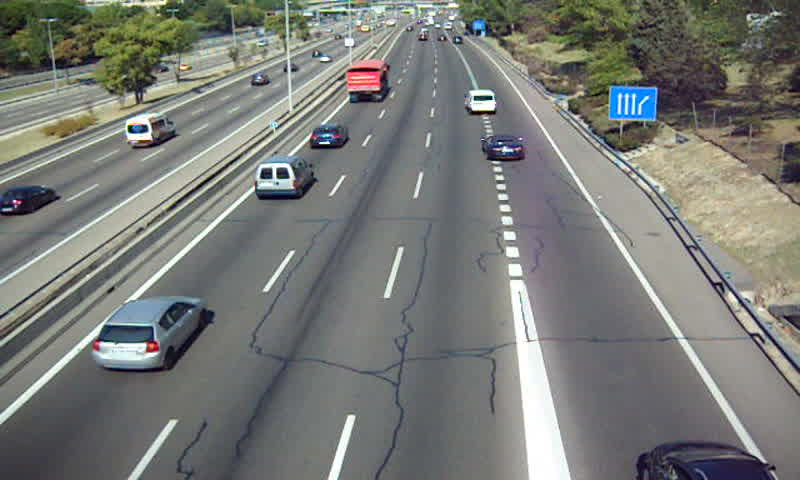car: (91, 296, 205, 372), (482, 132, 524, 160), (309, 123, 348, 147)
truck: (347, 61, 390, 101)
van: (255, 155, 314, 197), (463, 89, 497, 113)
